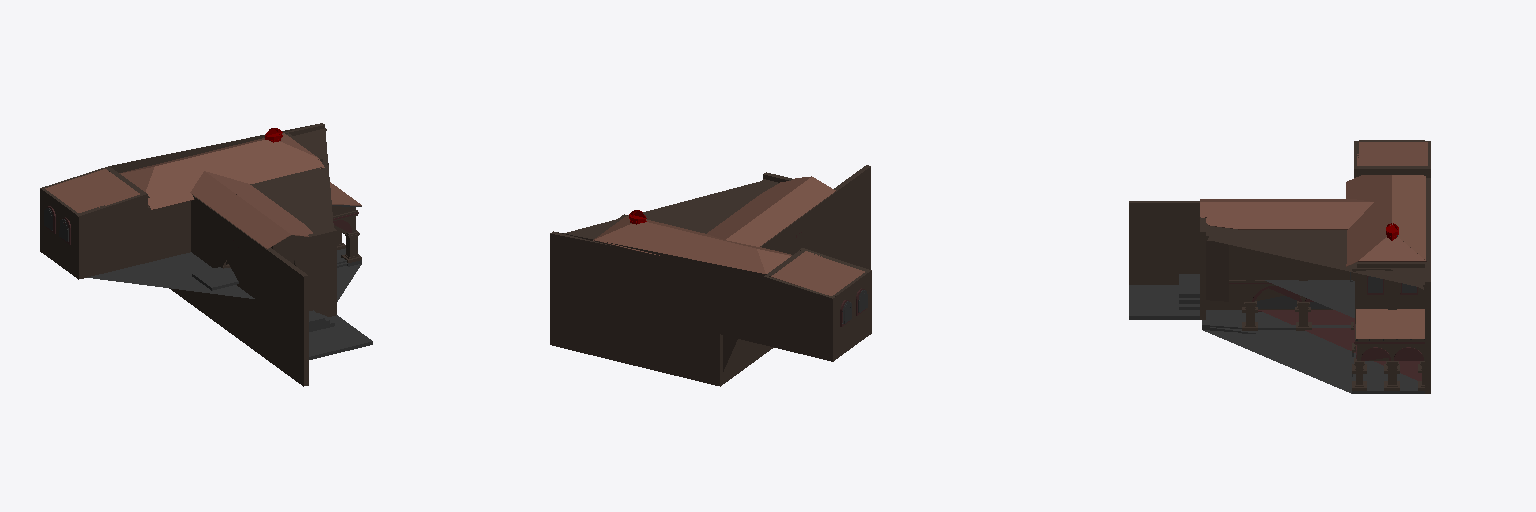
The model's file is CasaGonzales.obj.
3 views of the same model, side by side, from view 1: azimuth 30°, elevation 25°; view 2: azimuth 150°, elevation 25°; view 3: azimuth 270°, elevation 25° (orthographic).
Visible parts, largest first — view 1: Pilares_1; view 2: Pilares_1; view 3: Pilares_1.
Boxes of the visible parts, <box> form: Pilares_1: <box>40,123,372,386</box>; Pilares_1: <box>550,165,871,386</box>; Pilares_1: <box>1129,140,1430,393</box>.
Size of the model in its own units: 43.63 by 19.83 by 39.57.